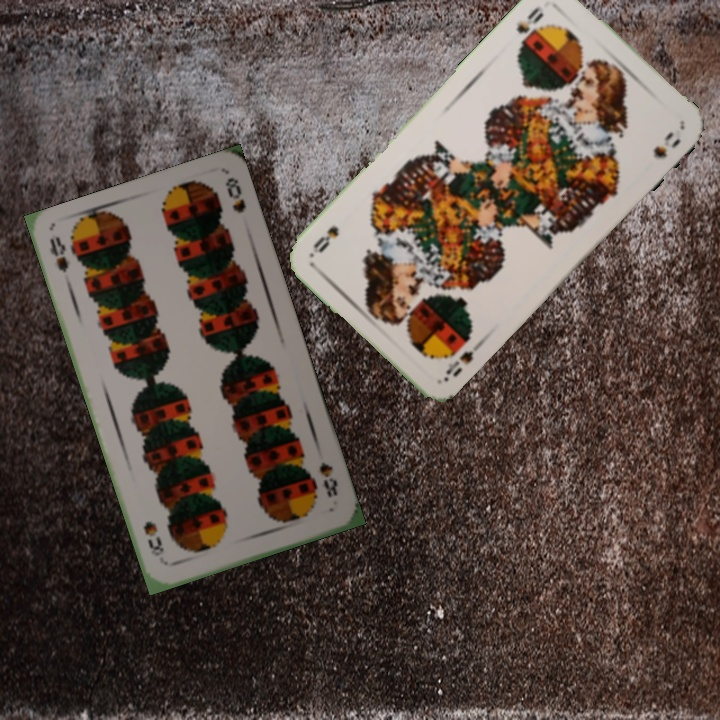S8: (45, 232, 72, 276), (315, 458, 340, 501)
SO: (441, 336, 486, 380), (512, 2, 547, 37)
